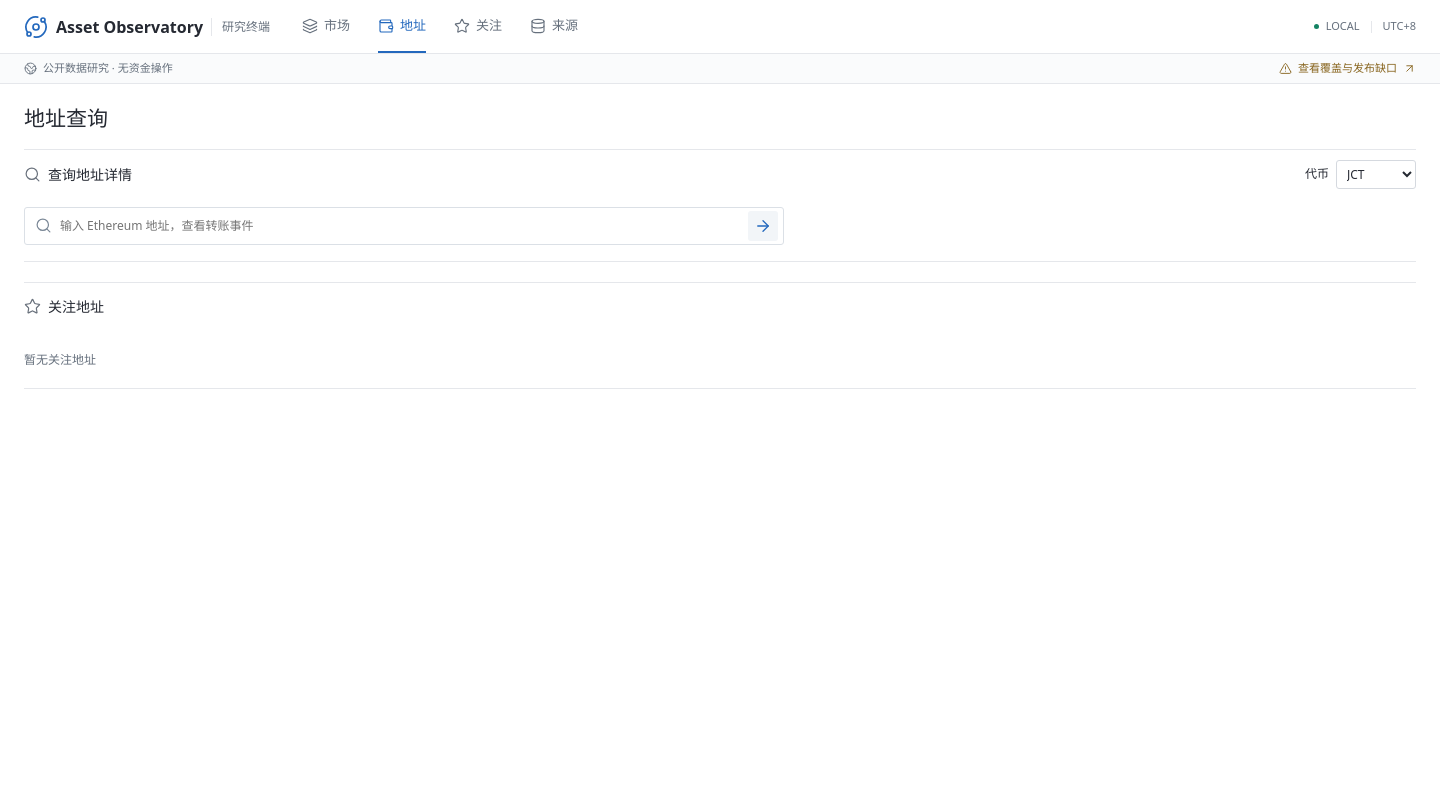
Scenario: address search page is reachable without a holder row and preserves the chosen asset
The image size is (1440, 785).
Expected: the heading "地址查询" is shown, [24,104,108,133]
Expected: the dropdown named "查询代币" shows "JCT", [1336,160,1416,189]
Type "0x0000000000000000000000000000000000000001" into the field named "查询 Ethereum 地址" at (400,226), box [60,212,740,240]
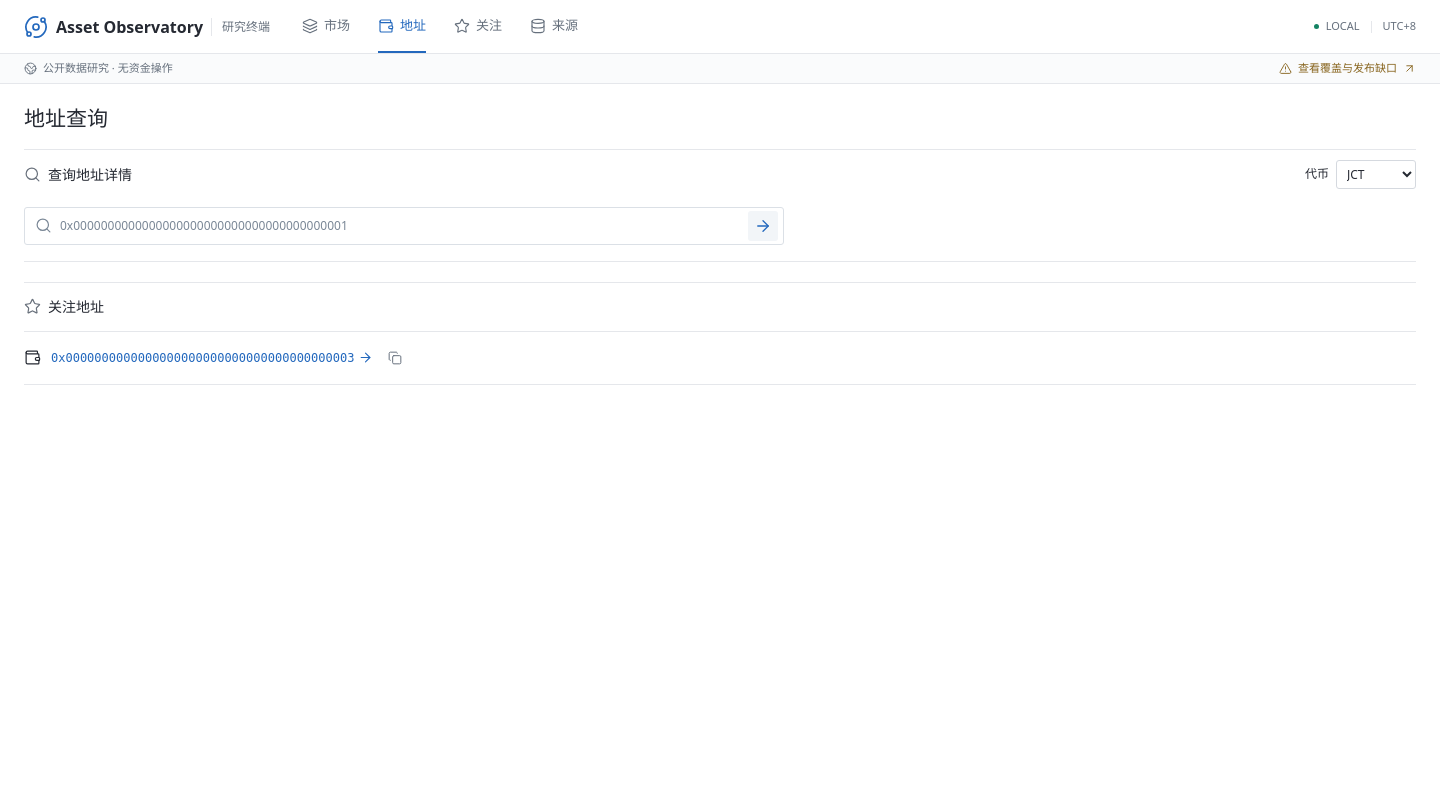
Click the button named "查询地址" at (763,226), box [748,211,778,241]
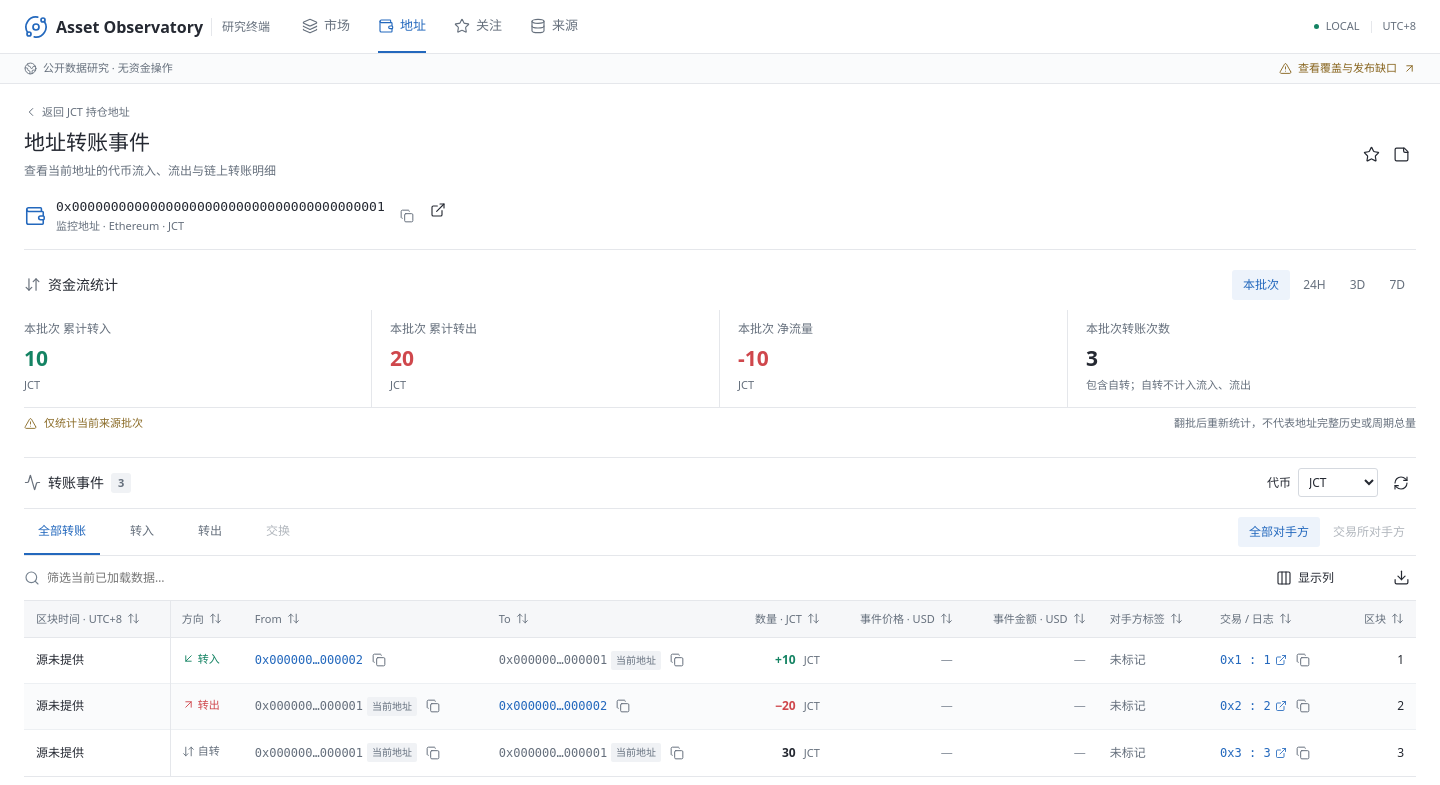
Expected: the dropdown named "事件代币" shows "JCT", [1298,468,1378,497]
Expected: the heading "地址转账事件" is shown, [24,128,150,156]
